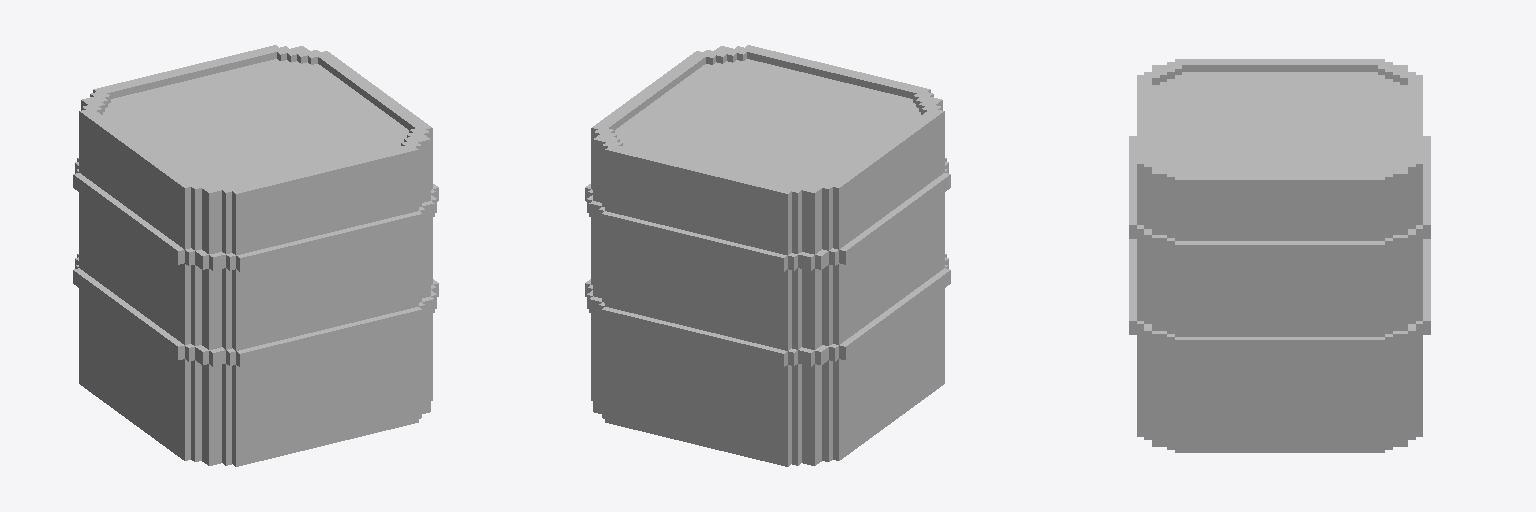
File: Crate.obj
The picture shows the model from 3 angles: view 1: azimuth 30°, elevation 25°; view 2: azimuth 150°, elevation 25°; view 3: azimuth 270°, elevation 25°; orthographic projection.
Visible parts, largest first — view 1: object 1; view 2: object 1; view 3: object 1.
Boxes of the visible parts, box(x1,y1,x2,y2) form: object 1: box(73, 45, 438, 466); object 1: box(585, 45, 950, 466); object 1: box(1129, 59, 1430, 452).
Size of the model in its own units: 4 by 4 by 4.